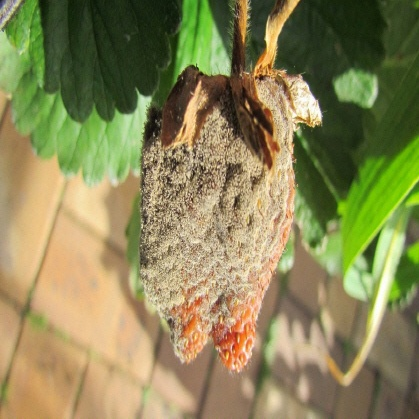Gray_Mold: (138, 44, 325, 355)
